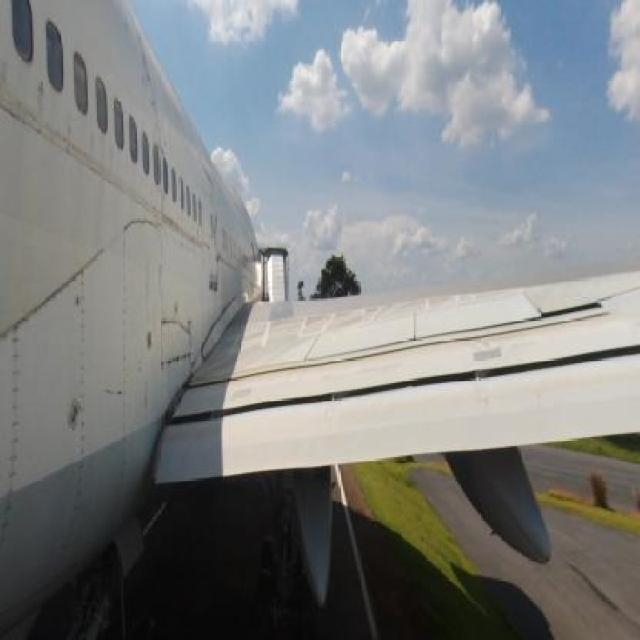Missing-Rivet: (9, 245, 93, 343), (9, 318, 25, 516), (74, 265, 88, 486), (158, 348, 199, 377)
Rust: (143, 205, 182, 227)
Scartch: (136, 35, 161, 122), (39, 74, 50, 111)
